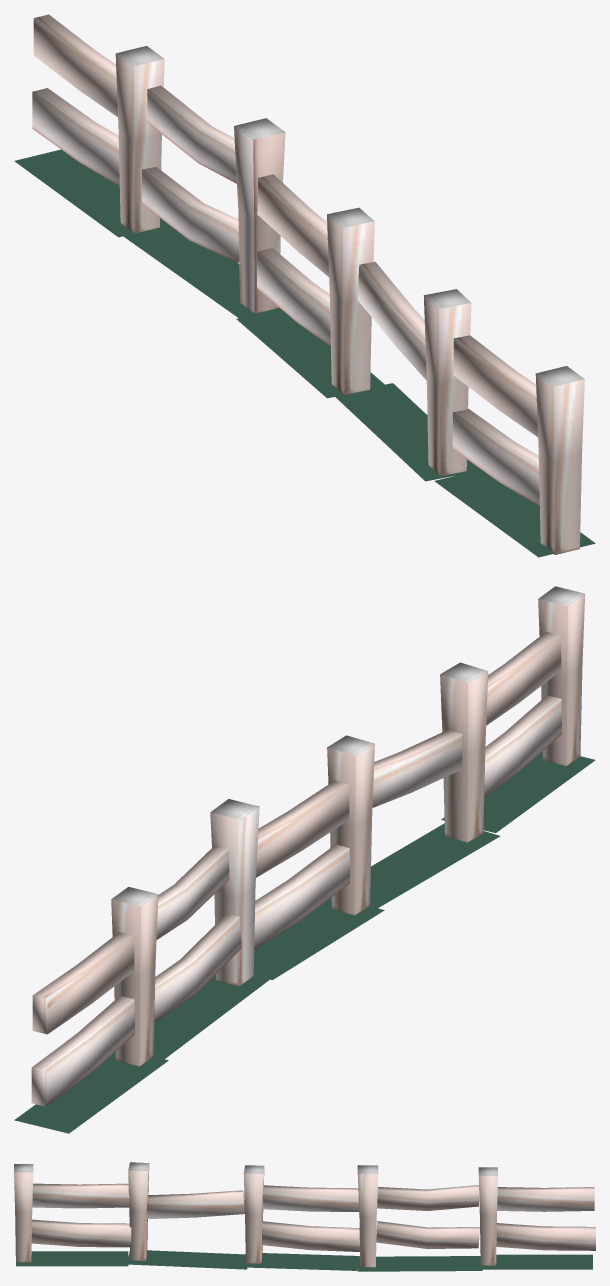
Rendered from FarmFenceGroup01.fbx.
3 renders of one model, top to bottom at view 1: azimuth 30°, elevation 25°; view 2: azimuth 150°, elevation 25°; view 3: azimuth 270°, elevation 25°, orthographic. The views are drawn at different scales.
Parts seen in each view (by area): view 1: FarmFence01 (×3), FarmFenceShadow (×5), FarmFence02, FarmFencePlank (×2), FarmFencePole; view 2: FarmFence01 (×3), FarmFenceShadow (×5), FarmFence02, FarmFencePlank (×2), FarmFencePole; view 3: FarmFence01 (×3), FarmFenceShadow (×5), FarmFencePlank (×2), FarmFence02, FarmFencePole.
Part boxes in pixels (bbox=[...]): FarmFence01 (×3): bbox=[32, 14, 584, 554]; FarmFenceShadow (×5): bbox=[14, 149, 595, 557]; FarmFence02: bbox=[357, 261, 471, 476]; FarmFencePlank (×2): bbox=[142, 85, 239, 262]; FarmFencePole: bbox=[234, 118, 285, 313]; FarmFence01 (×3): bbox=[31, 586, 585, 1106]; FarmFenceShadow (×5): bbox=[14, 751, 595, 1133]; FarmFence02: bbox=[372, 662, 488, 842]; FarmFencePlank (×2): bbox=[154, 845, 241, 1022]; FarmFencePole: bbox=[210, 799, 259, 986]; FarmFence01 (×3): bbox=[14, 1164, 595, 1265]; FarmFenceShadow (×5): bbox=[16, 1250, 592, 1271]; FarmFencePlank (×2): bbox=[376, 1185, 479, 1248]; FarmFence02: bbox=[128, 1162, 244, 1260]; FarmFencePole: bbox=[357, 1165, 378, 1267].
Bounding box in the file's own units: 0.5916 × 1.19 × 6.56.
